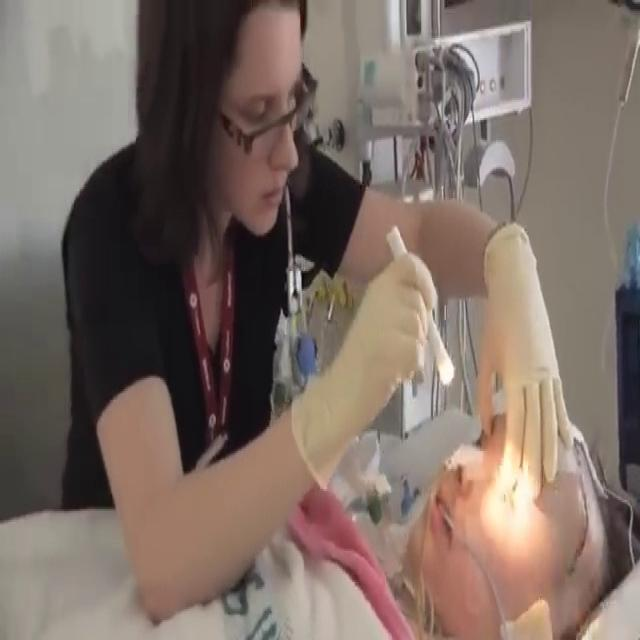nurse: (59, 0, 441, 478)
patient: (397, 409, 638, 638)
